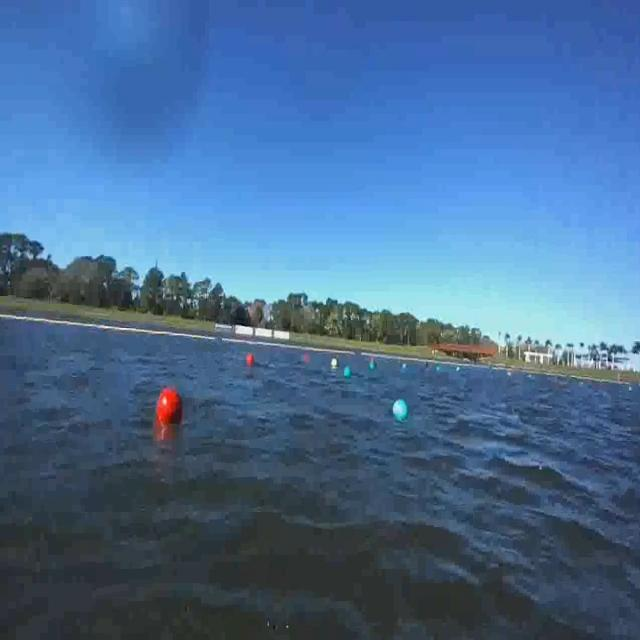green-buoy: (391, 395, 408, 424)
red-buoy: (158, 388, 185, 427)
